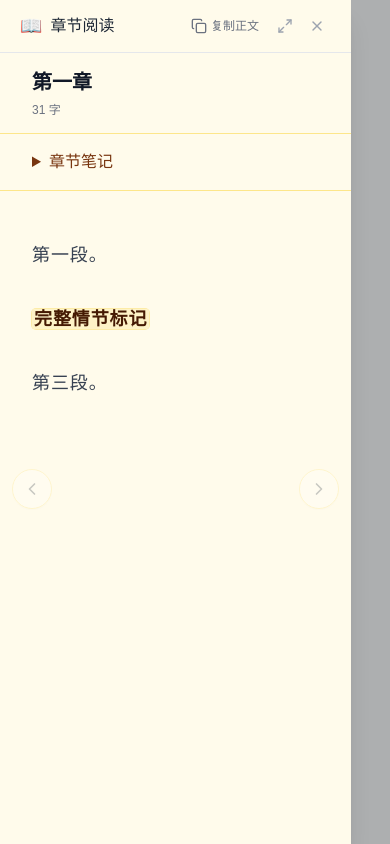
Scenario: NodeDetailDrawer › copies the complete original chapter content
Click the button "复制正文" at (225, 26), box 183,12 -> 267,40
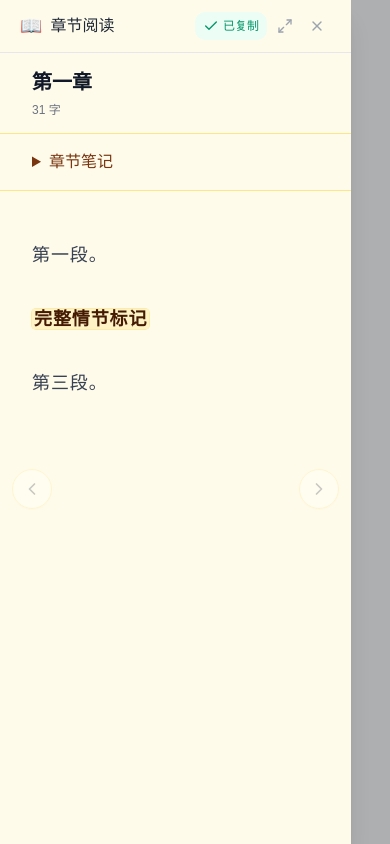
Expected: the button with aria-label "正文已复制" is shown, 195,12 -> 267,40
